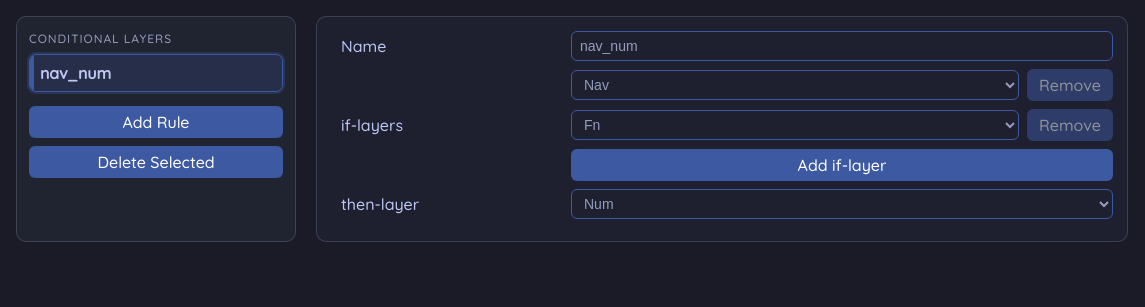
ConditionalLayerEditor › blocks duplicate if-layer values from pull-down changes
Select "Fn" in the dropdown named "if-layer-0": (795, 85) [571, 70, 1019, 100]
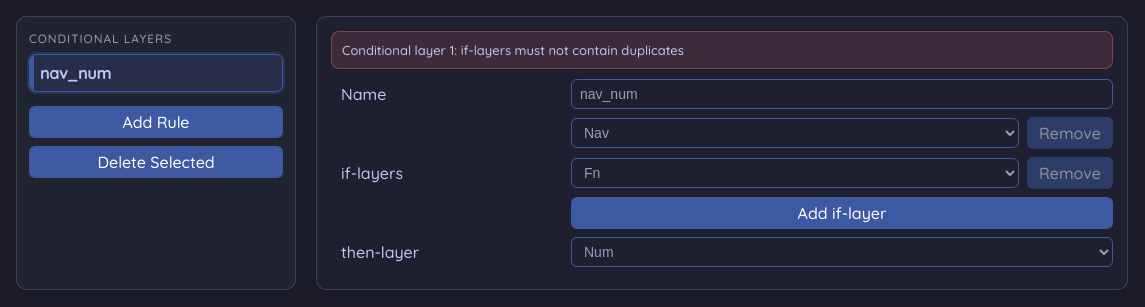
Now the text "Conditional layer 1: if-layers must not contain duplicates" is shown, box [342, 42, 684, 58]
